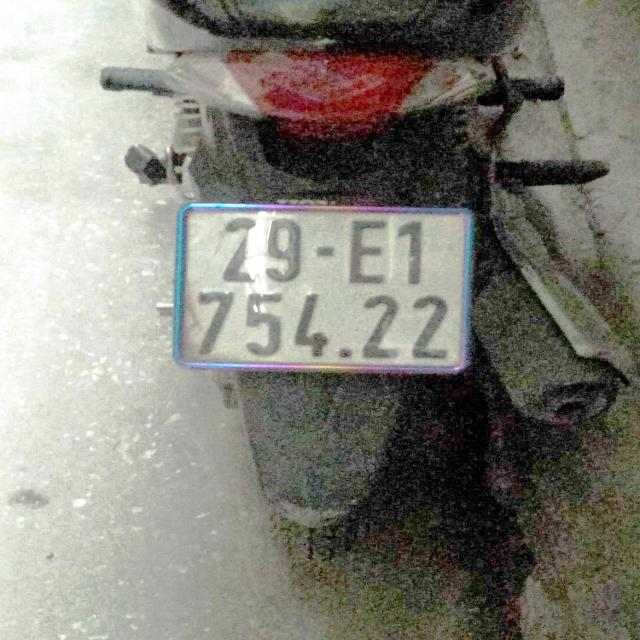license_plate: (160, 194, 496, 388)
